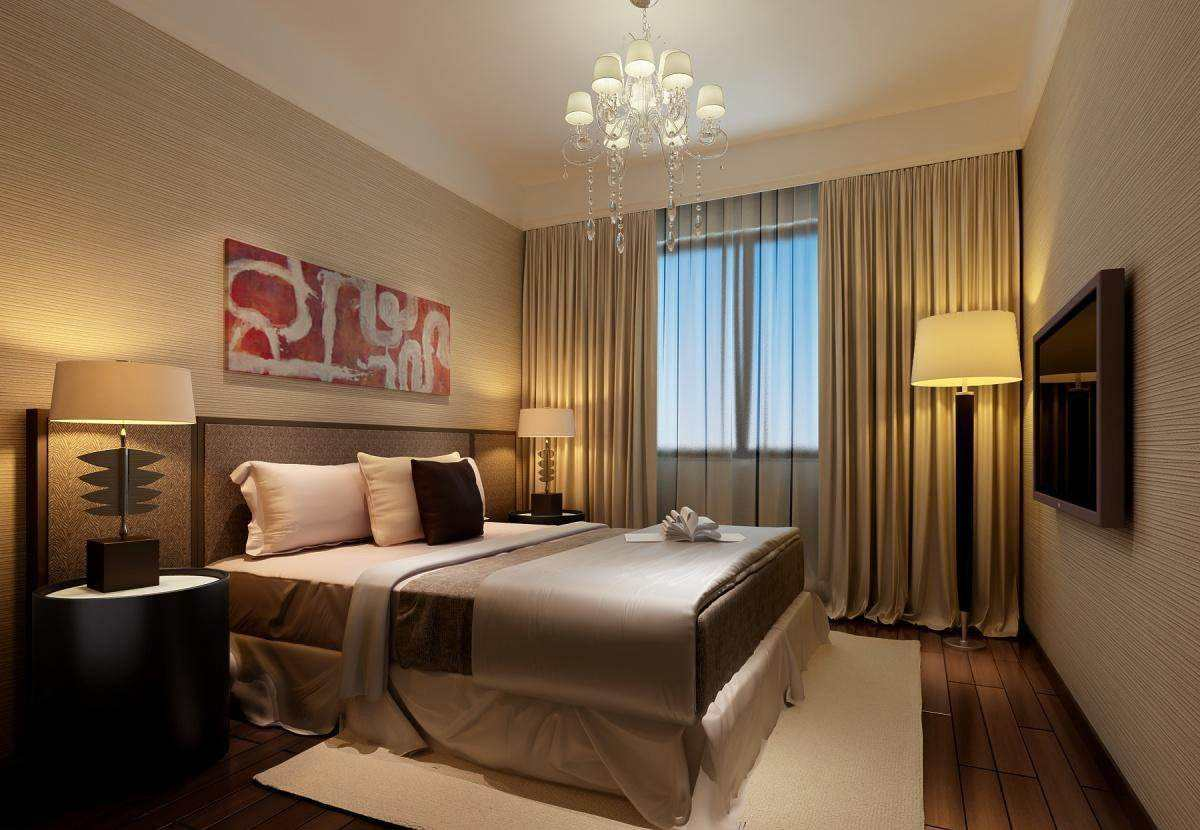床: (219, 514, 811, 784)
枕头: (229, 449, 494, 552)
灯: (550, 6, 736, 246), (899, 321, 1018, 623), (47, 361, 190, 583), (507, 406, 573, 516)
